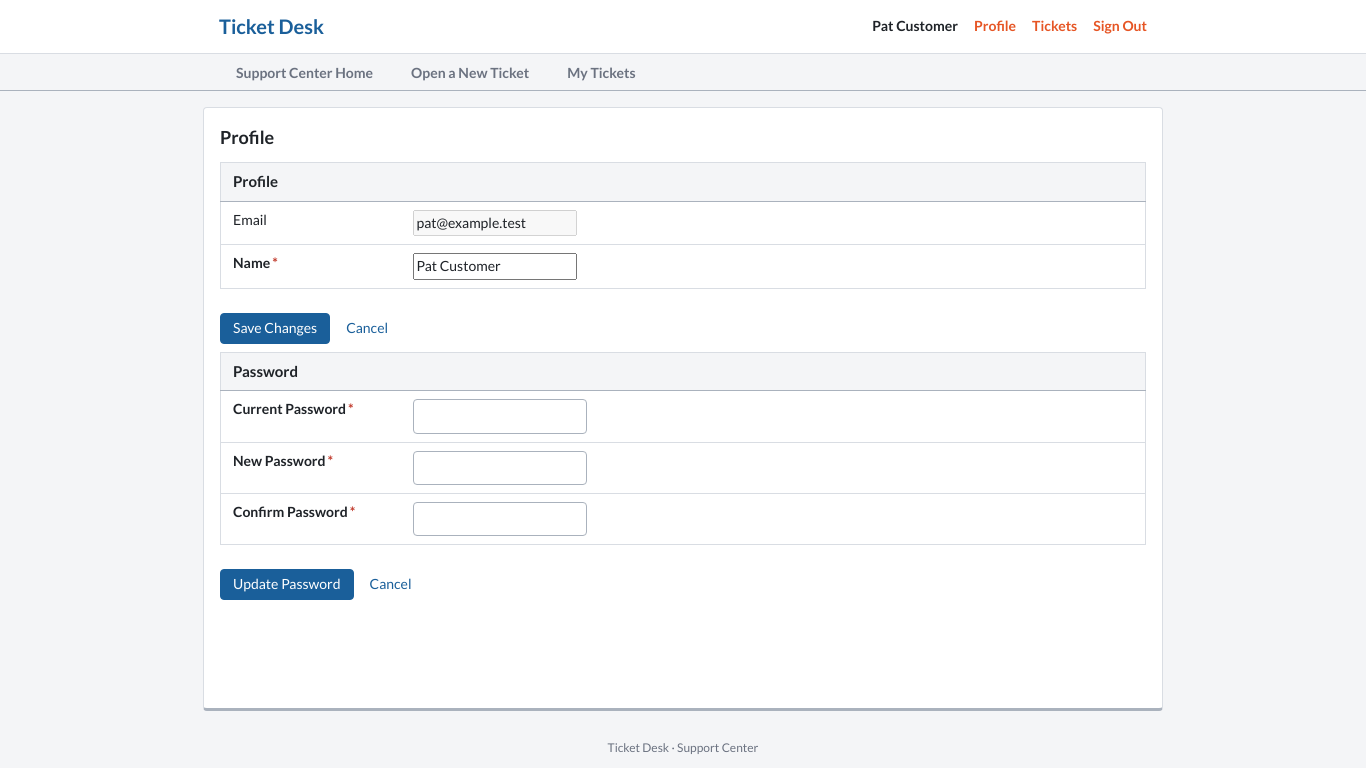
Test: patches the name and flashes Profile saved
Replace the text in the field labelled "Name*" with "Pat New" at (494, 267), box x1=412 y1=253 x2=576 y2=280
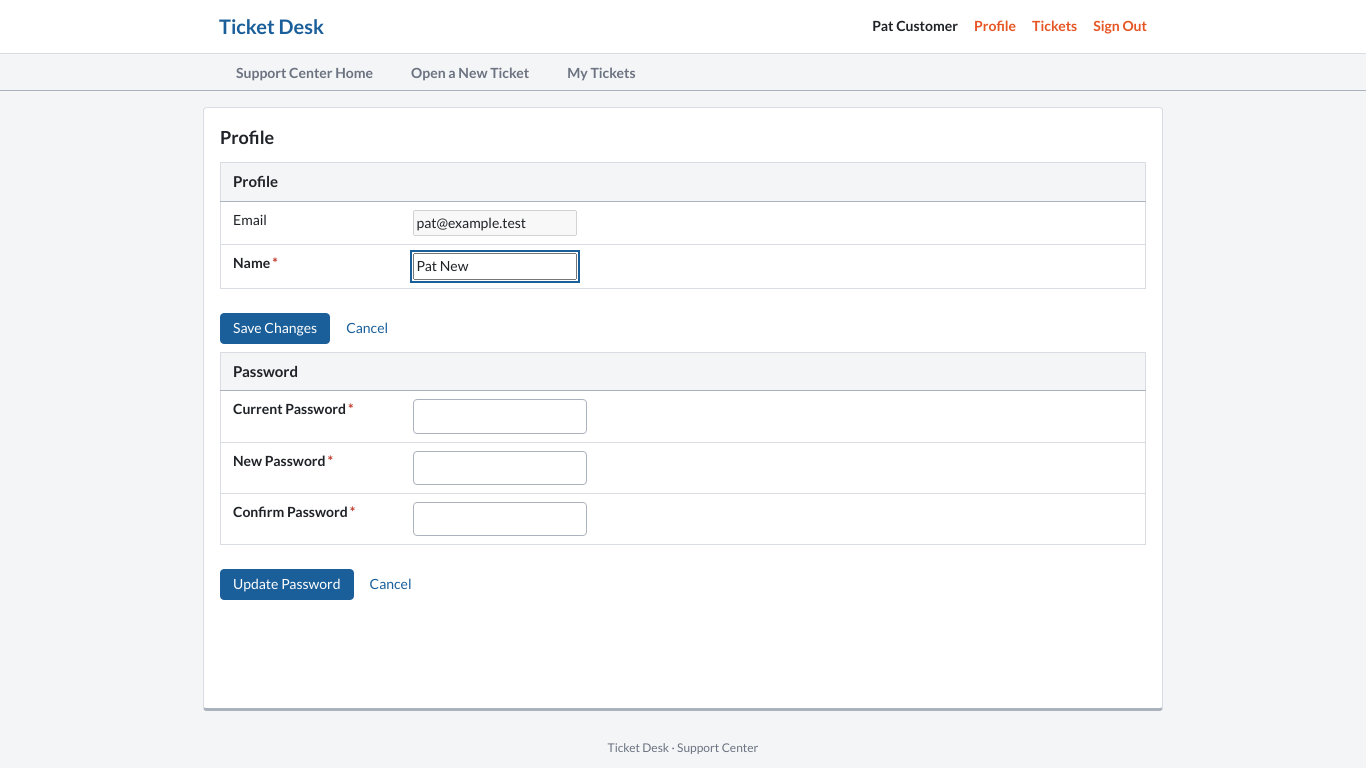
Click the button "Save Changes" at (275, 328), box x1=220 y1=313 x2=330 y2=344
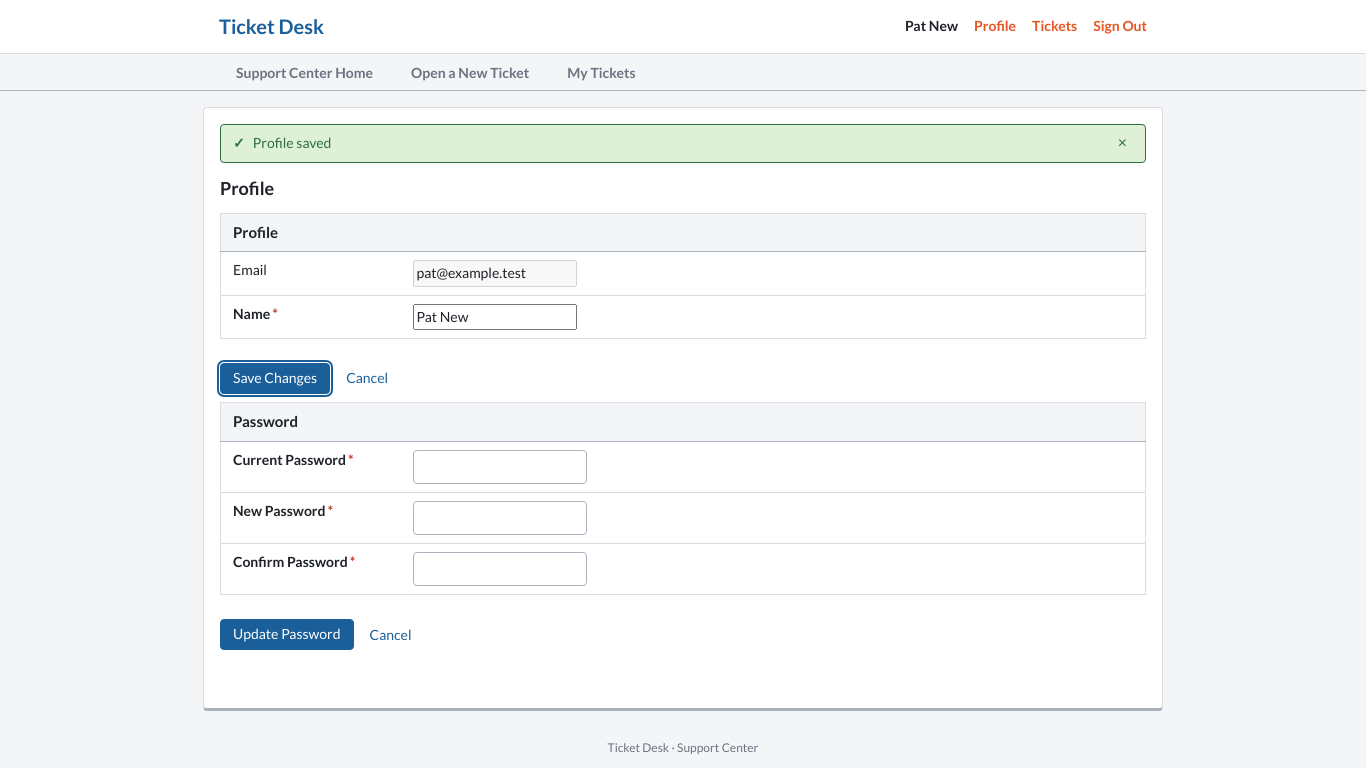
Expected: the text "Profile saved" is shown, x1=253 y1=134 x2=331 y2=151
